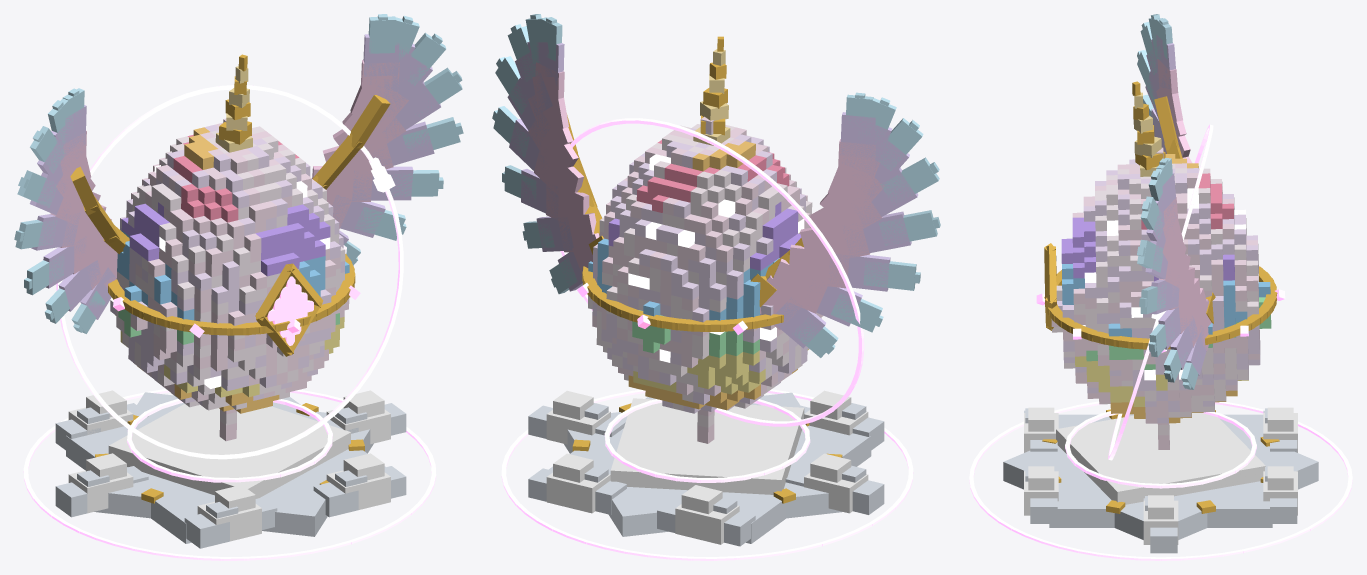
The model's file is egg_epico_unicornio.glb.
3 views of the same model, side by side, from view 1: azimuth 30°, elevation 25°; view 2: azimuth 150°, elevation 25°; view 3: azimuth 270°, elevation 25° (orthographic). The views are drawn at different scales.
Parts seen in each view (by area): view 1: shell_geo, root_geo, wing_L_geo, wing_R_geo, orbit1_geo, egg_geo, floor_rings_geo, emblem_geo, crown_geo; view 2: shell_geo, root_geo, wing_R_geo, wing_L_geo, orbit1_geo, floor_rings_geo, egg_geo, crown_geo; view 3: root_geo, shell_geo, wing_L_geo, wing_R_geo, floor_rings_geo, egg_geo, crown_geo, orbit1_geo, emblem_geo.
Boxes of the visible parts, x1=… form: shell_geo: x1=110, y1=118, x2=349, y2=441; root_geo: x1=55, y1=390, x2=406, y2=548; wing_L_geo: x1=312, y1=14, x2=463, y2=265; wing_R_geo: x1=14, y1=88, x2=129, y2=333; orbit1_geo: x1=56, y1=85, x2=403, y2=459; egg_geo: x1=108, y1=245, x2=360, y2=337; floor_rings_geo: x1=23, y1=389, x2=436, y2=560; emblem_geo: x1=255, y1=263, x2=323, y2=356; crown_geo: x1=215, y1=54, x2=252, y2=152; shell_geo: x1=588, y1=116, x2=823, y2=443; root_geo: x1=528, y1=390, x2=884, y2=546; wing_R_geo: x1=750, y1=92, x2=940, y2=357; wing_L_geo: x1=492, y1=14, x2=603, y2=294; orbit1_geo: x1=560, y1=118, x2=864, y2=426; floor_rings_geo: x1=501, y1=389, x2=913, y2=560; egg_geo: x1=577, y1=266, x2=783, y2=334; crown_geo: x1=693, y1=36, x2=730, y2=145; root_geo: x1=1003, y1=407, x2=1318, y2=553; shell_geo: x1=1051, y1=147, x2=1271, y2=449; wing_L_geo: x1=1137, y1=157, x2=1215, y2=389; wing_R_geo: x1=1137, y1=14, x2=1192, y2=163; floor_rings_geo: x1=969, y1=401, x2=1352, y2=560; egg_geo: x1=1036, y1=266, x2=1285, y2=352; crown_geo: x1=1132, y1=81, x2=1165, y2=176; orbit1_geo: x1=1108, y1=124, x2=1213, y2=460; emblem_geo: x1=1044, y1=243, x2=1056, y2=330.
Size of the model in its own units: 9.17 by 8.36 by 7.31.
